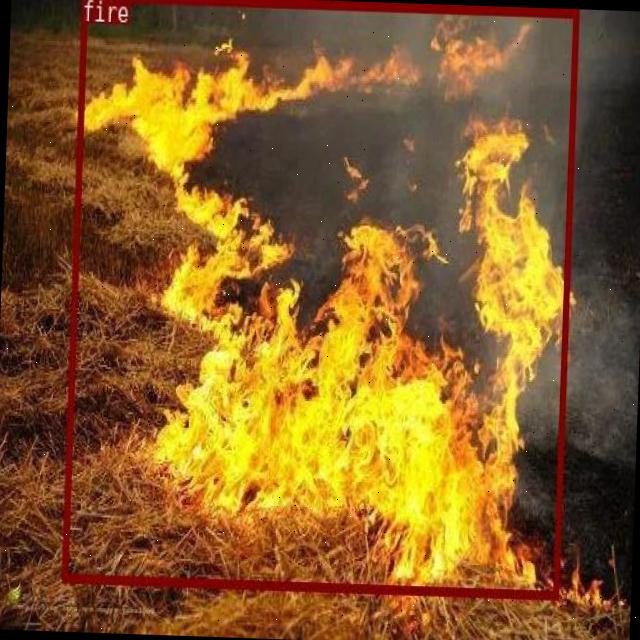fire: (61, 0, 577, 598)
